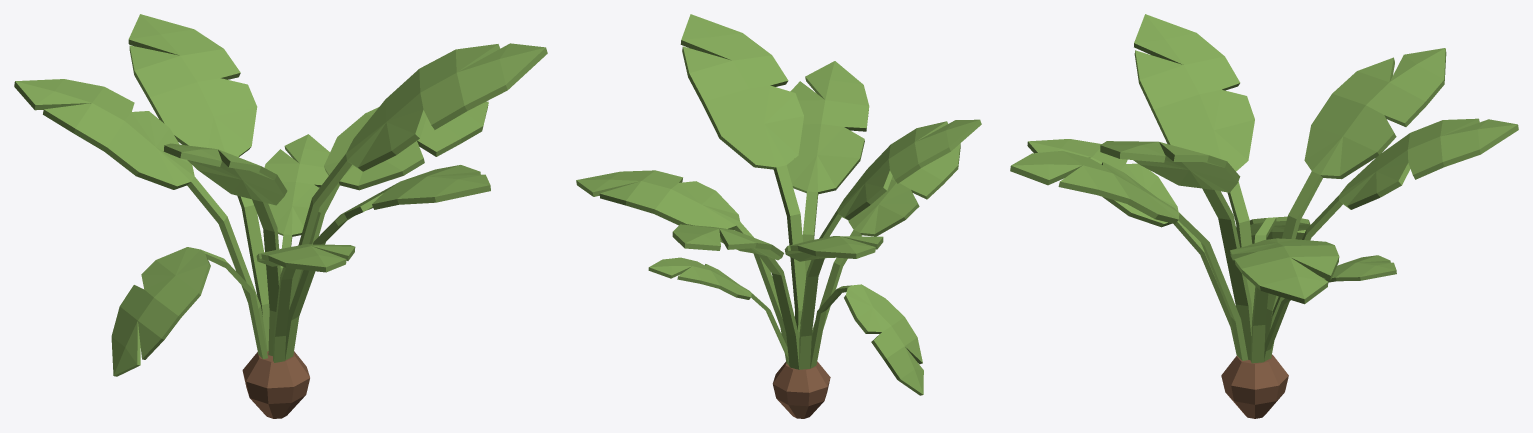
The model's file is Tree_3.fbx.
The picture shows the model from 3 angles, left to right: view 1: azimuth 30°, elevation 25°; view 2: azimuth 150°, elevation 25°; view 3: azimuth 270°, elevation 25°; orthographic projection. The views are drawn at different scales.
Visible parts, largest first — view 1: Tree_3; view 2: Tree_3; view 3: Tree_3.
Boxes of the visible parts, x1,y1,x2,y2 form: Tree_3: (14, 14, 547, 418); Tree_3: (576, 14, 981, 418); Tree_3: (1010, 14, 1518, 418).
Bounding box in the file's own units: 155 × 136 × 176.
